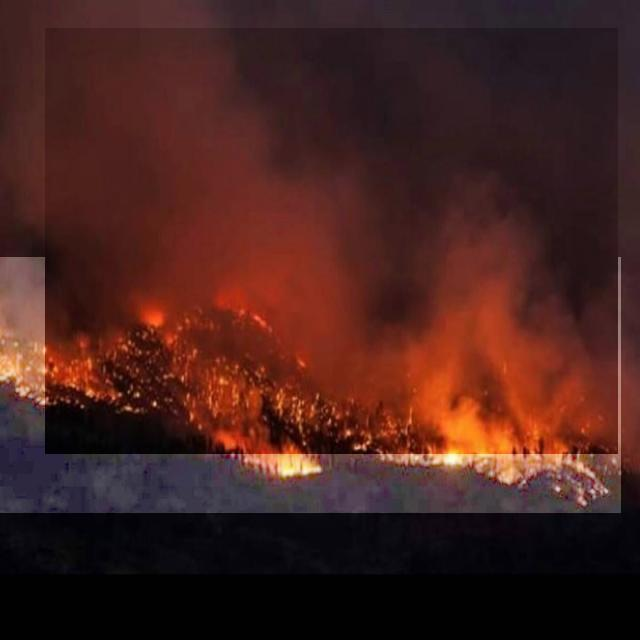Fire: (0, 257, 621, 513)
Smoke: (45, 28, 618, 454)
